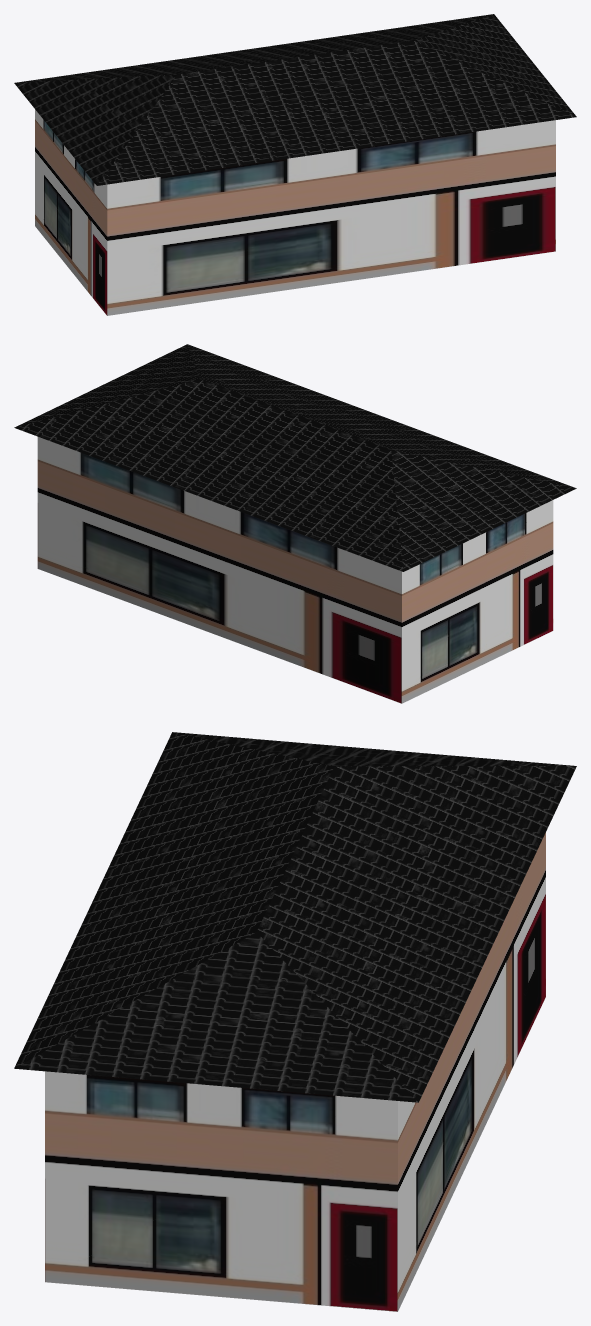
3 views of the same model, one above another, from view 1: azimuth 30°, elevation 25°; view 2: azimuth 150°, elevation 25°; view 3: azimuth 270°, elevation 25° (orthographic). The views are drawn at different scales.
Parts seen in each view (by area): view 1: CityEngineMaterial_5_m, CityEngineMaterial_14_m; view 2: CityEngineMaterial_5_m, CityEngineMaterial_14_m; view 3: CityEngineMaterial_14_m, CityEngineMaterial_5_m.
Boxes of the visible parts, bbox=[...] form: CityEngineMaterial_5_m: bbox=[35, 109, 555, 315]; CityEngineMaterial_14_m: bbox=[14, 14, 576, 185]; CityEngineMaterial_5_m: bbox=[37, 437, 553, 703]; CityEngineMaterial_14_m: bbox=[14, 344, 576, 571]; CityEngineMaterial_14_m: bbox=[14, 732, 576, 1102]; CityEngineMaterial_5_m: bbox=[45, 832, 545, 1311].
Bounding box in the file's own units: 31.17 × 11.39 × 20.01.
